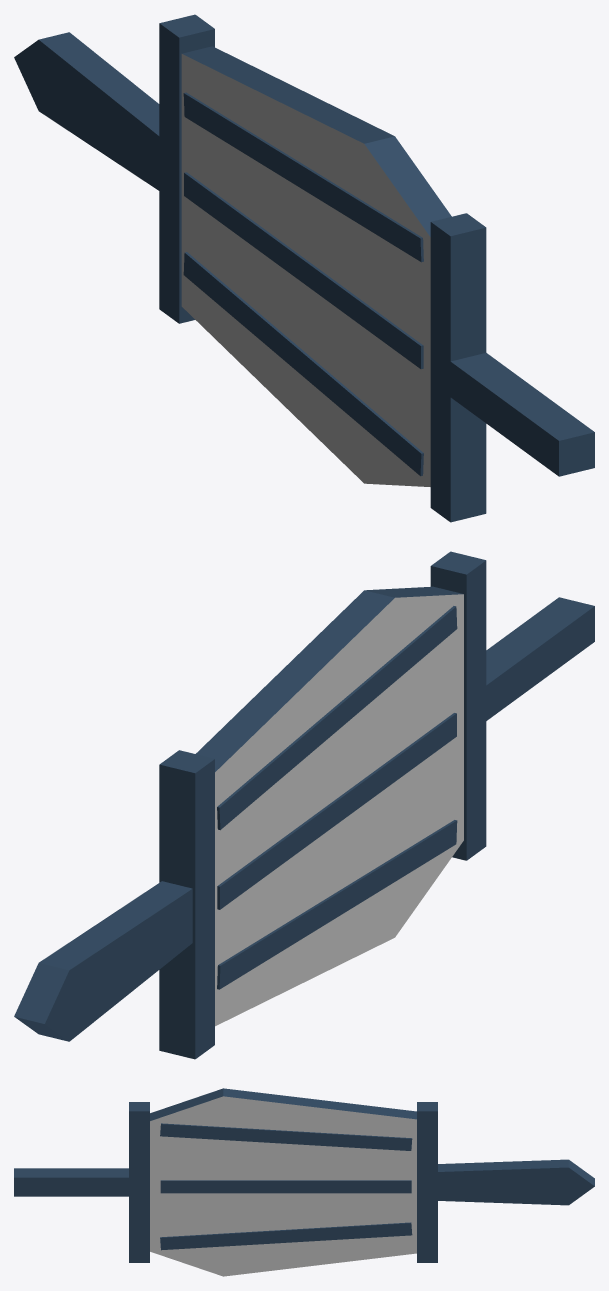
Rendered from SM_LinkPaperLantern.obj.
3 renders of one model, top to bottom at view 1: azimuth 30°, elevation 25°; view 2: azimuth 150°, elevation 25°; view 3: azimuth 270°, elevation 25°, orthographic. The views are drawn at different scales.
Parts seen in each view (by area): view 1: SM_LinkPaperLantern; view 2: SM_LinkPaperLantern; view 3: SM_LinkPaperLantern.
Part boxes in pixels (x1,y1,x2,y2): SM_LinkPaperLantern: (14,14,594,522); SM_LinkPaperLantern: (14,551,594,1059); SM_LinkPaperLantern: (14,1088,594,1276).
Bounding box in the file's own units: 4.2 × 38 × 111.
